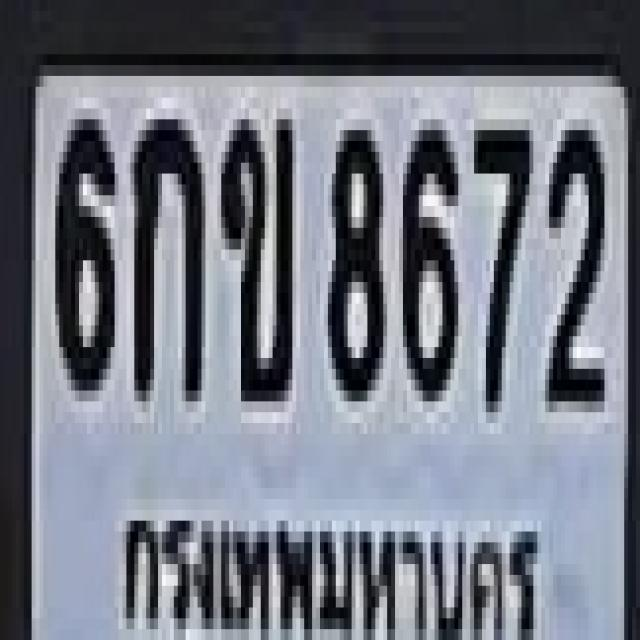-: (130, 108, 202, 390), (218, 108, 288, 390)
2: (541, 120, 601, 402)
6: (51, 108, 111, 380), (399, 120, 454, 390)
7: (470, 120, 530, 402)
8: (324, 120, 379, 390)
BKK: (103, 477, 553, 640)
